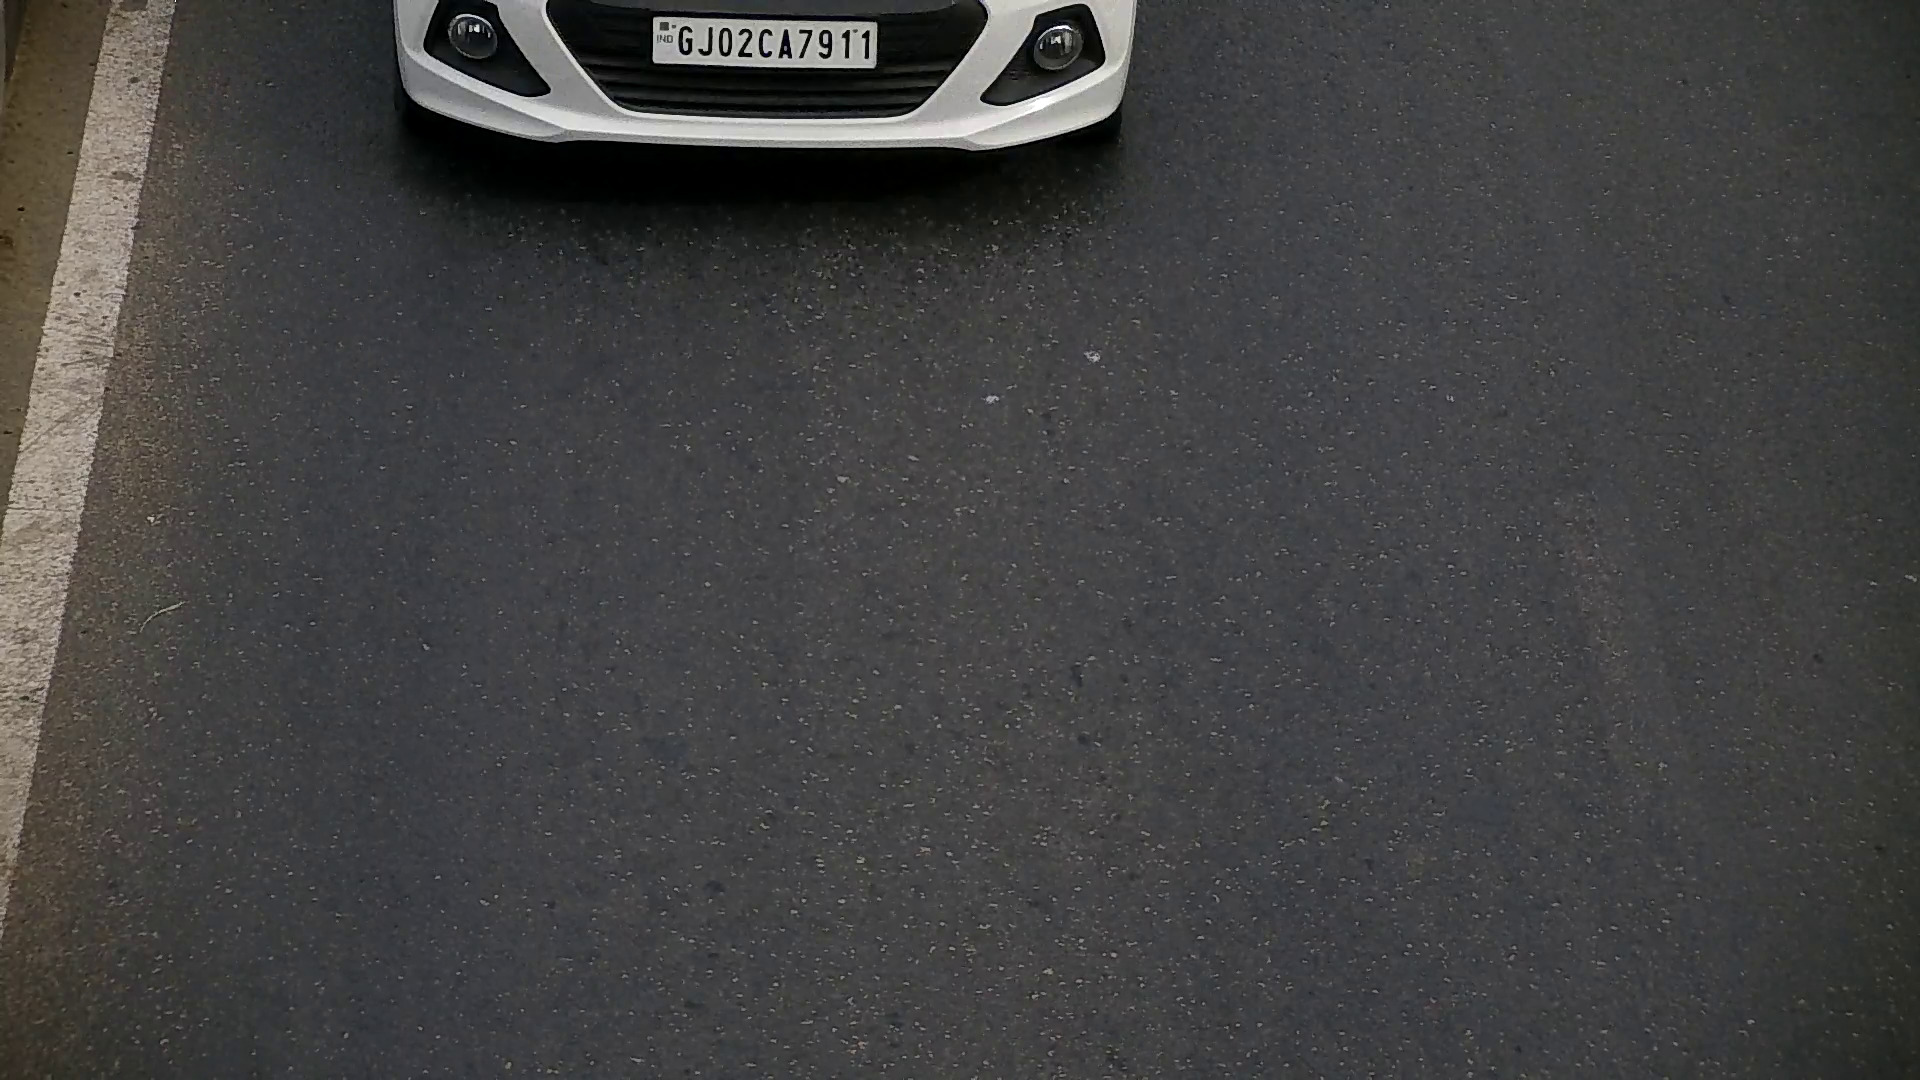numberplate: (646, 13, 878, 69)
